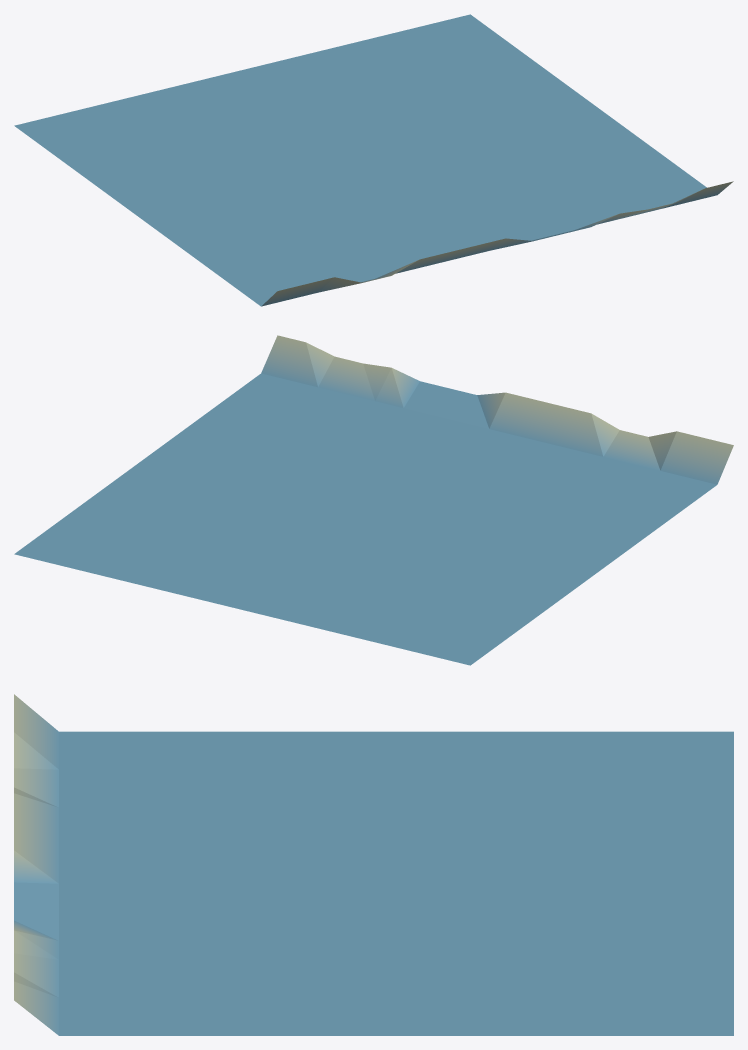
The picture shows the model from 3 angles, top to bottom: view 1: azimuth 30°, elevation 25°; view 2: azimuth 150°, elevation 25°; view 3: azimuth 270°, elevation 25°; orthographic projection. The views are drawn at different scales.
Size of the model in its own units: 32 by 1.84 by 32.
